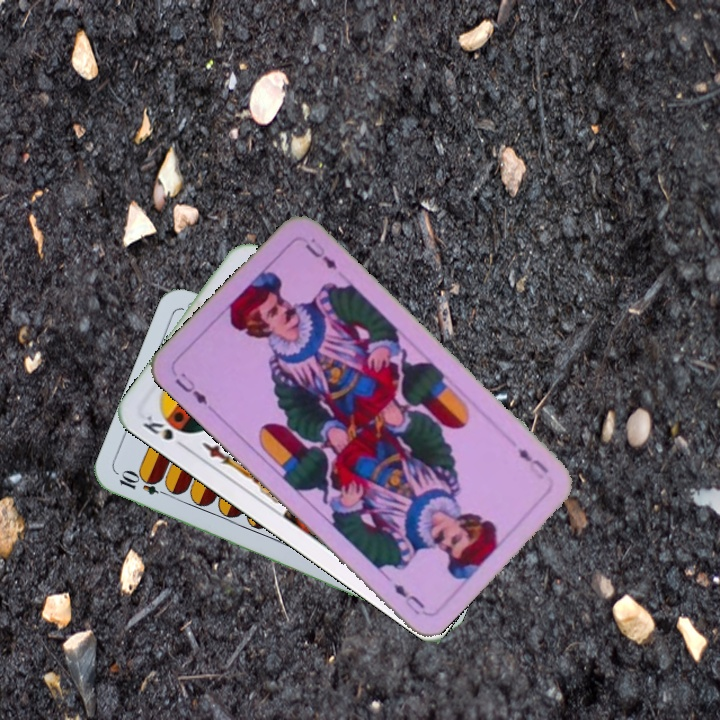E10: (115, 469, 173, 499)
EU: (171, 368, 211, 408), (513, 444, 552, 483)
SK: (138, 410, 190, 452)
